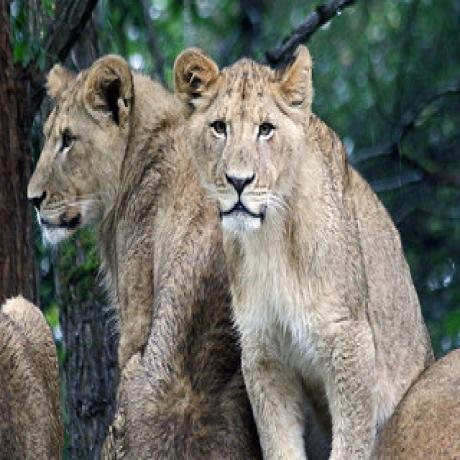Lion: (173, 41, 434, 460), (26, 0, 228, 460)
